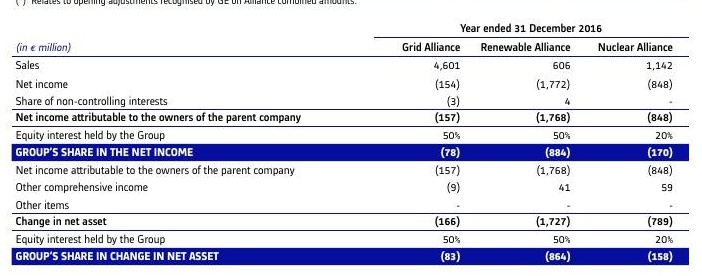table: (0, 0, 702, 276)
